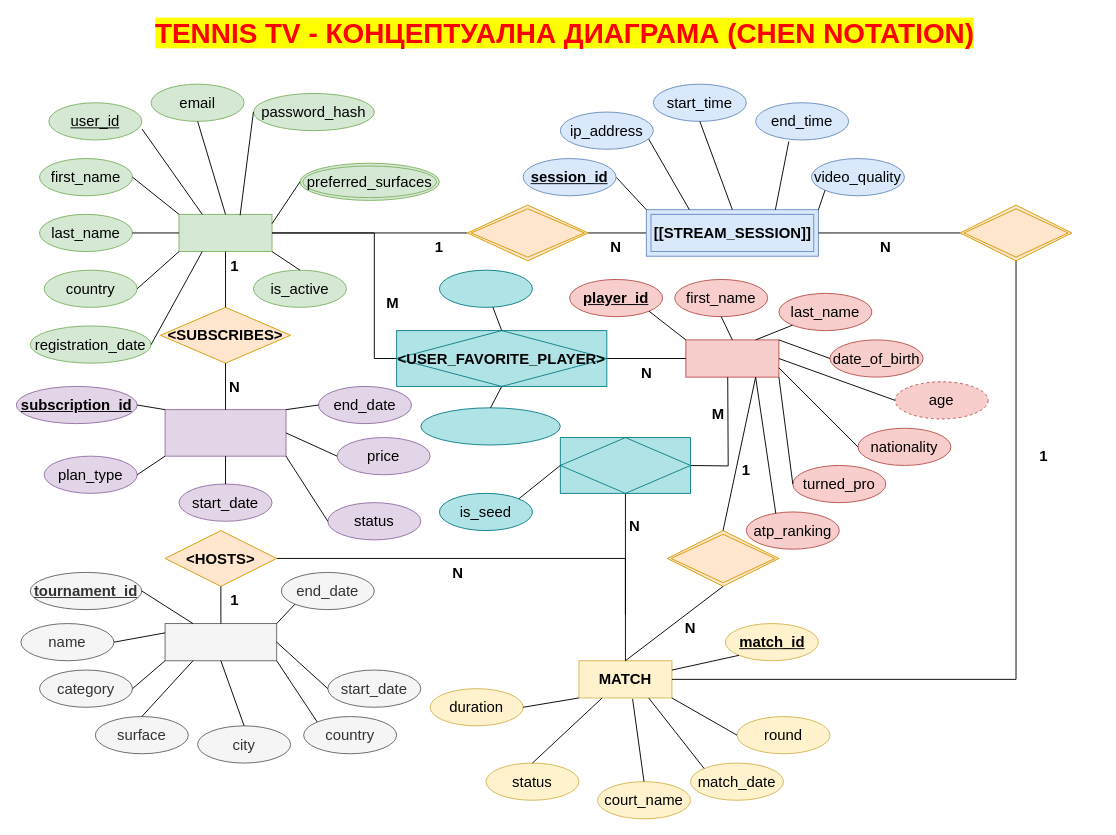
Some shapes in this 1116 by 835 pixel diagram are drawn without their labels. Here are the shapes that lost their labels. From the top down, the centre of each, then its label:
At [225,232]: "USER".
At [527,232]: "<<WATCHES>>".
At [1015,232]: "<<FOR>>".
At [485,288]: "added_date".
At [732,358]: "PLAYER".
At [225,432]: "SUBSCRIPTION".
At [490,426]: "notification_enabled".
At [625,465]: "<PLAYER_MATCH>".
At [722,558]: "<WINS>".
At [220,642]: "TOURNAMENT".
